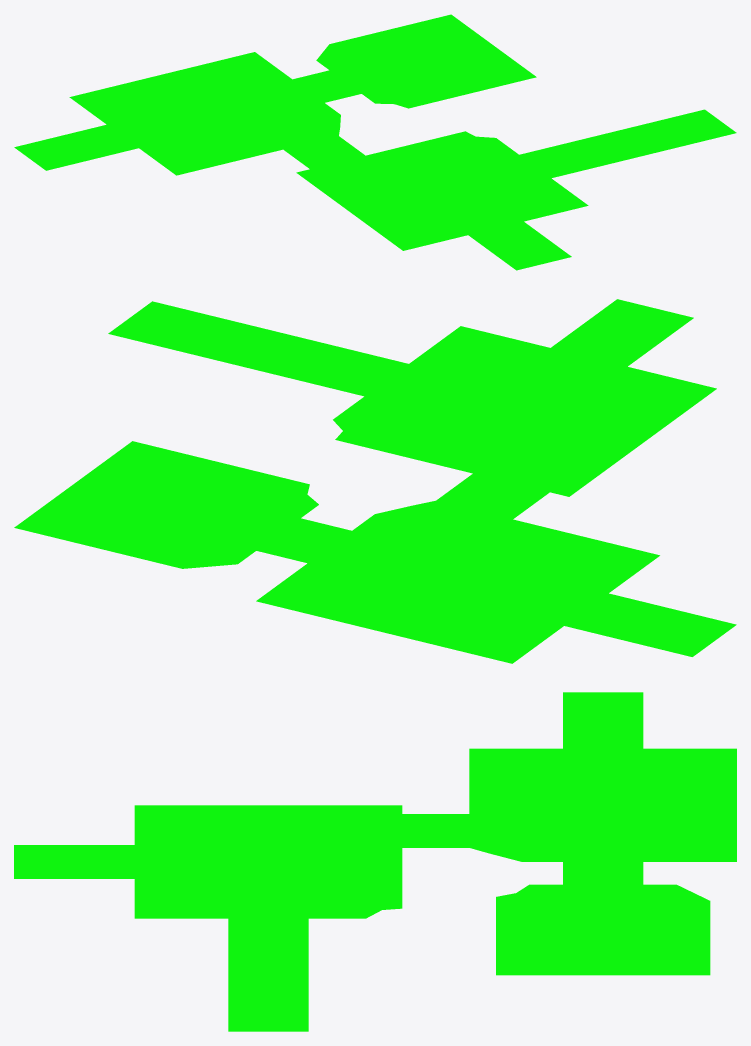
File: s04b_tc3-floor.glb
The picture shows the model from 3 angles, top to bottom: view 1: azimuth 30°, elevation 25°; view 2: azimuth 150°, elevation 25°; view 3: azimuth 270°, elevation 25°; orthographic projection. The views are drawn at different scales.
Visible parts, largest first — view 1: collision_floor-colonly; view 2: collision_floor-colonly; view 3: collision_floor-colonly.
Boxes of the visible parts, x1,y1,x2,y2 form: collision_floor-colonly: (14,14,736,270); collision_floor-colonly: (14,299,736,663); collision_floor-colonly: (14,692,736,1031).
Bounding box in the file's own units: 60 × 0 × 54.
